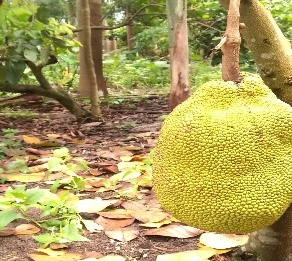Mit: (156, 75, 291, 231)
